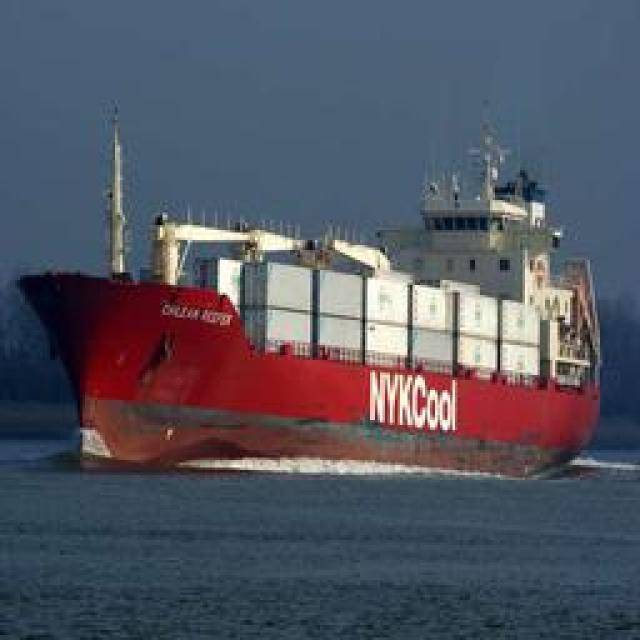Ship: (35, 106, 608, 464)
